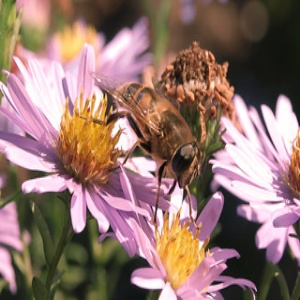bee: (93, 69, 204, 229)
